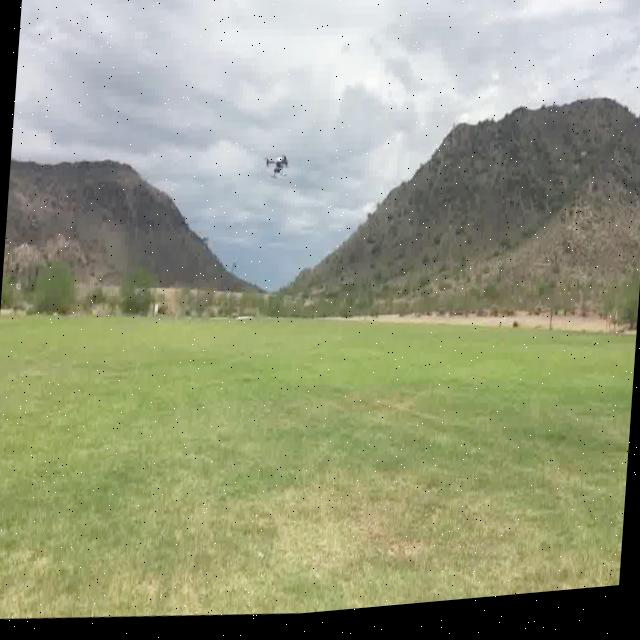drone: (261, 152, 291, 185)
